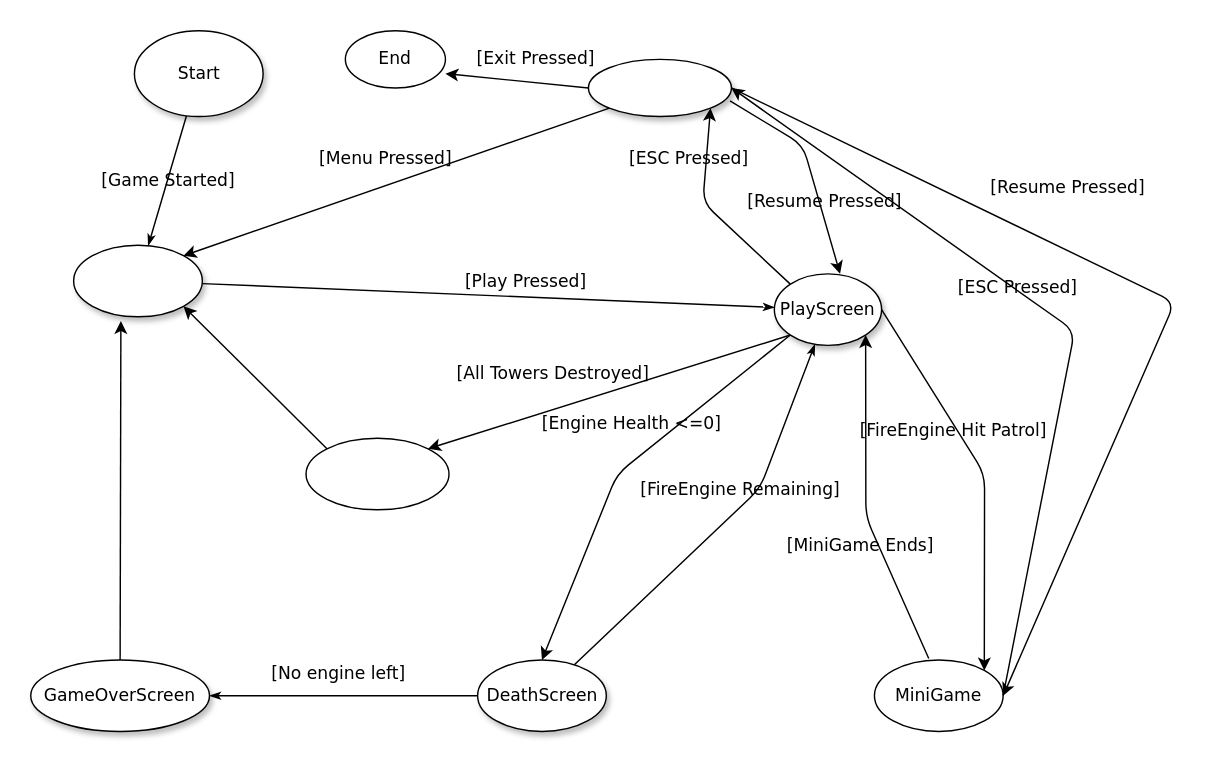
This 1211x766 diagram has some shape labels left out. Here are the shapes that lost their labels. From the top down, the centre of each, then its label:
(x=660, y=89): PauseScreen
(x=138, y=282): MenuScreen
(x=377, y=473): WinScreen
